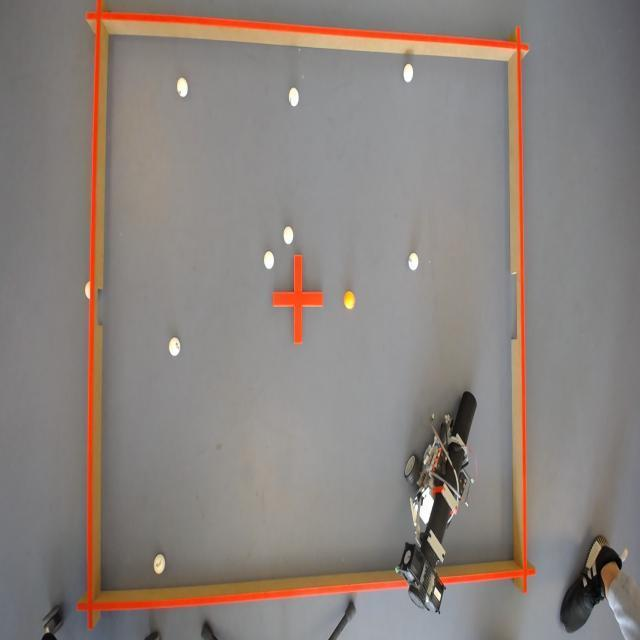orange: (343, 290, 355, 310)
robot: (402, 362, 464, 607)
white: (288, 86, 300, 110), (152, 551, 164, 573), (176, 76, 187, 98), (168, 336, 180, 356), (282, 224, 294, 244), (402, 62, 414, 82), (408, 252, 418, 272), (264, 251, 274, 271)
